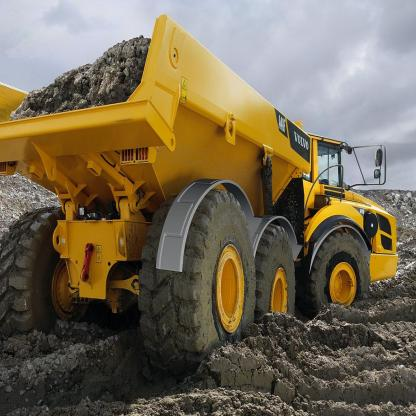dump_truck: (1, 13, 399, 367)
